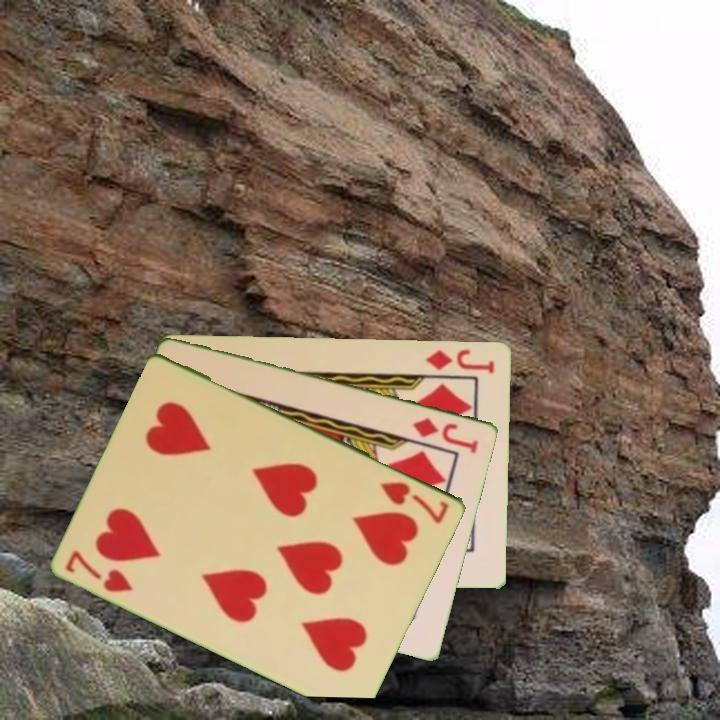7h: (377, 478, 452, 527), (62, 546, 137, 595)
Jd: (410, 413, 482, 456), (422, 345, 497, 376)
